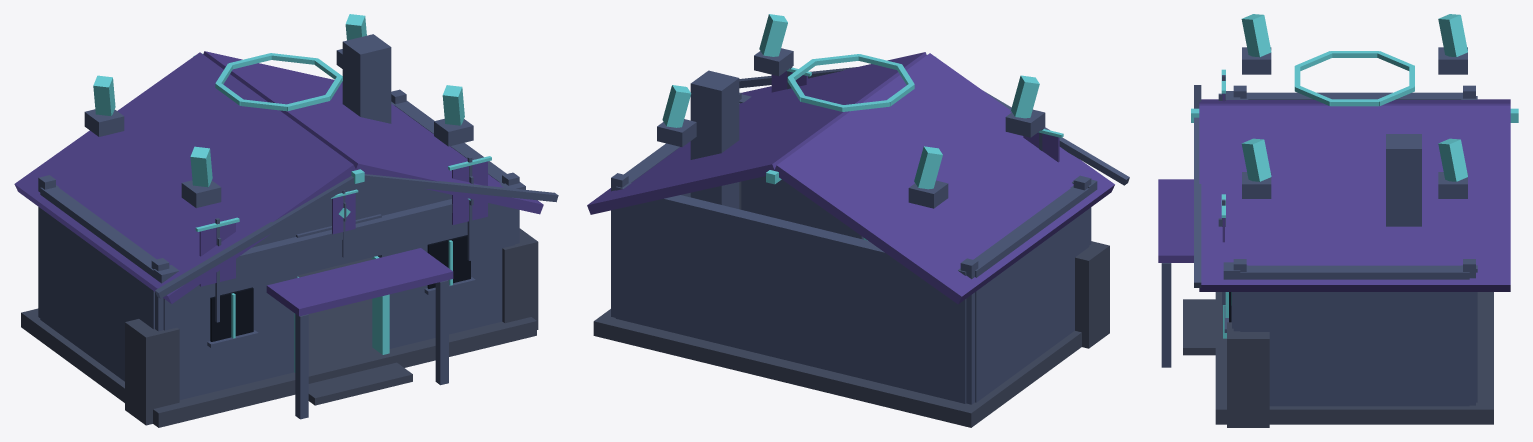
The model's file is hall_mage_lv2.glb.
3 renders of one model, left to right at view 1: azimuth 30°, elevation 25°; view 2: azimuth 150°, elevation 25°; view 3: azimuth 270°, elevation 25°, orthographic.
Parts seen in each view (by area): view 1: hall_mage_lv2; view 2: hall_mage_lv2; view 3: hall_mage_lv2.
Boxes of the visible parts, x1,y1,x2,y2 form: hall_mage_lv2: (14,14,558,427); hall_mage_lv2: (587,14,1129,427); hall_mage_lv2: (1158,14,1518,427).
Size of the model in its own units: 28.54 by 17.15 by 22.
